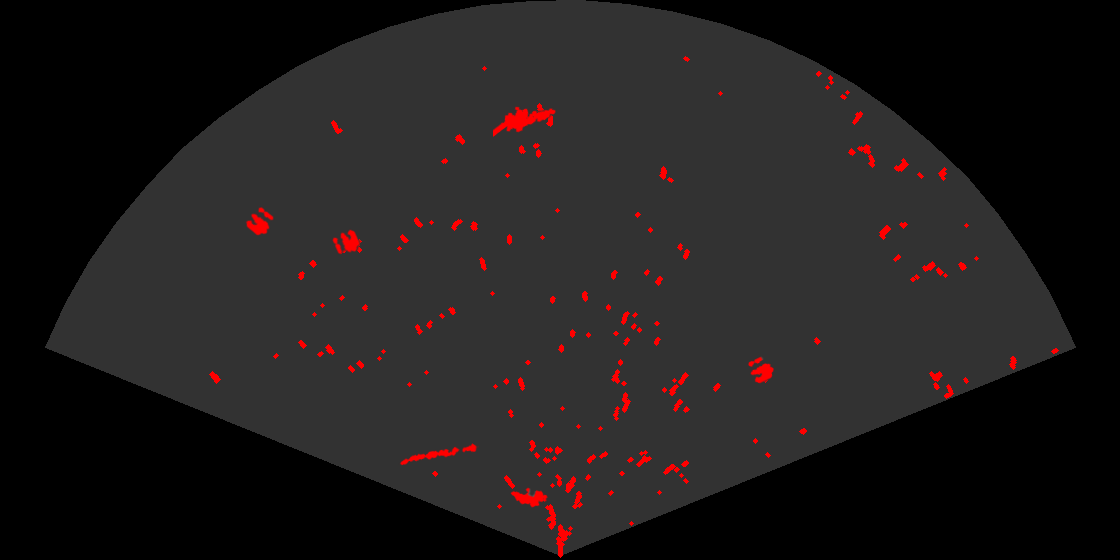AUV: (509, 486, 550, 509)
ball: (244, 205, 275, 237), (747, 355, 775, 385), (331, 228, 361, 256)
chain: (398, 442, 479, 467)
frogman: (493, 105, 557, 138)
